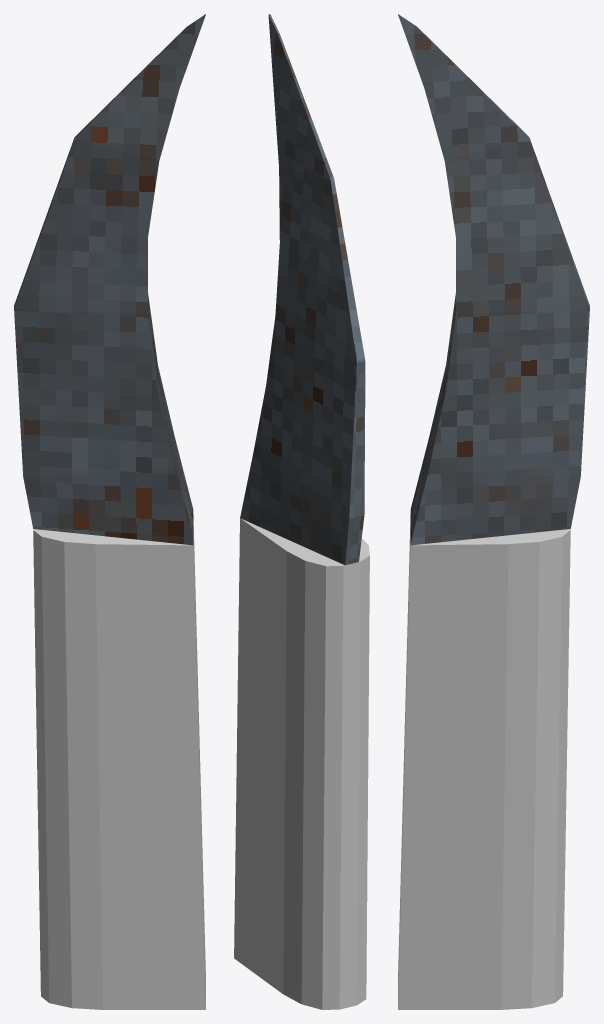
Rendered from Knife.fbx.
The picture shows the model from 3 angles, left to right: view 1: azimuth 90°, elevation 25°; view 2: azimuth 210°, elevation 25°; view 3: azimuth 270°, elevation 25°; orthographic projection. The views are drawn at different scales.
Parts seen in each view (by area): view 1: knife; view 2: knife; view 3: knife.
Part boxes in pixels (box(x1,y1,x2,y2)): knife: box(14, 14, 205, 1009); knife: box(234, 14, 369, 1009); knife: box(398, 14, 589, 1009).
Size of the model in its own units: 51.45 by 650 by 116.
2 materials, 1 textured.
